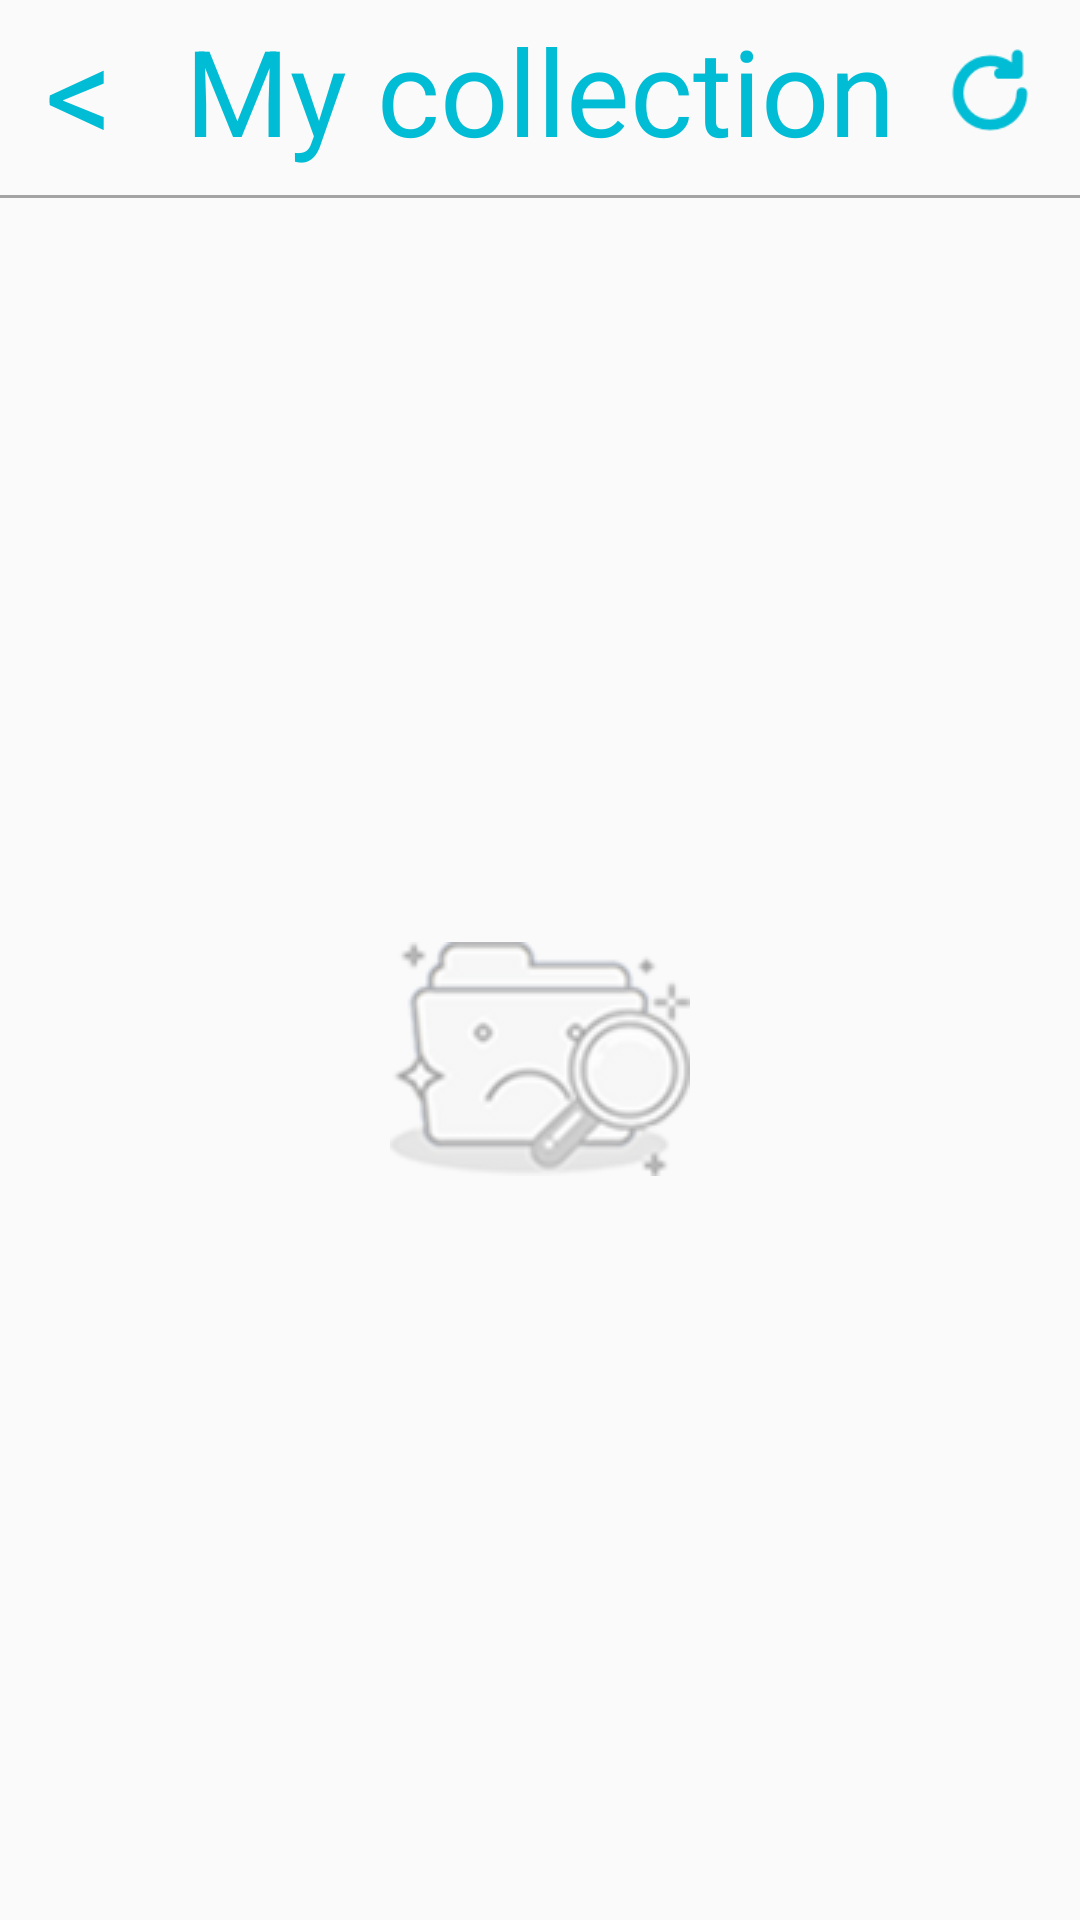

Screen size 1080px×1920px. Icon name, then its center in pixels as [x,y]:
refresh: [990,90]
